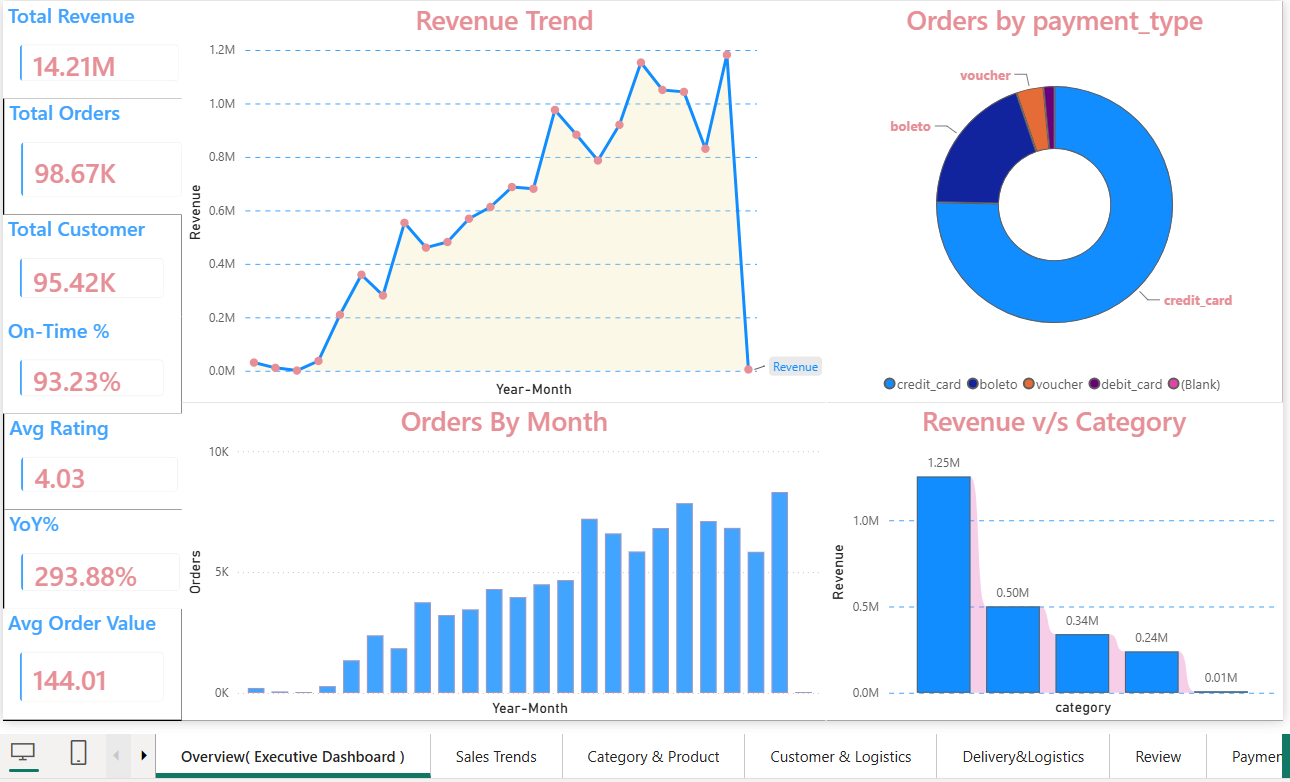

The dashboard page shown, as its layout file describes it:
{"tool":"powerbi","page":{"name":"Overview( Executive Dashboard ) ","canvas":[1280,720],"ordinal":0},"visuals":[{"type":"cardVisual","title":"Total Revenue","fields":{"Data":["public bi_fact_sales.Revenue"]},"box":[0,0,193.8,97.5],"z":0},{"type":"cardVisual","title":"Total Orders","fields":{"Data":["public bi_fact_sales.Orders"]},"box":[1.2,97.7,195.4,115.8],"z":1000},{"type":"cardVisual","title":"Total Customer","fields":{"Data":["public bi_fact_sales.Customers"]},"box":[0,213.8,178.8,101.2],"z":2000},{"type":"cardVisual","title":"Avg Order Value","fields":{"Data":["public bi_fact_sales.AOV"]},"box":[0,608,178.6,111],"z":3000},{"type":"cardVisual","title":"On-Time %","fields":{"Data":["public bi_fact_sales.On-time %"]},"box":[0,314.9,178.6,97.7],"z":4000},{"type":"cardVisual","title":"Avg Rating","fields":{"Data":["public bi_fact_sales.Avg Rating"]},"box":[1.2,412.5,191.2,96.2],"z":5000},{"type":"cardVisual","title":"YoY%","fields":{"Data":["public bi_fact_sales.YoY %"]},"box":[1.2,509.1,193,98.9],"z":6000},{"type":"lineChart","title":"Revenue Trend","fields":{"Y":["public bi_fact_sales.Revenue"],"Category":["DimDate.Year-Month"]},"box":[178.6,0,645.4,401.7],"z":7000},{"type":"clusteredColumnChart","title":"Orders By Month","fields":{"Y":["public bi_fact_sales.Orders"],"Category":["DimDate.Year-Month"]},"box":[178.8,401.2,645,318.8],"z":8000},{"type":"columnChart","title":"Revenue v/s Category","fields":{"Category":["public bi_fact_sales.category"],"Y":["public bi_fact_sales.Revenue"]},"box":[822.8,401.7,457.2,318.5],"z":9000},{"type":"donutChart","fields":{"Y":["public bi_fact_sales.Orders"],"Category":["public bi_fact_sales.payment_type"]},"box":[824,0,456,401.7],"z":10000}]}

Visuals, with their boxes on the page's 1280x720 design canvas (x1, y1, x2, y2). These are canvas units, not pixel positions in the 1290x782 screenshot, which may show the page scaled, cropped or inside an application window:
"Total Revenue" cardVisual: (left=0, top=0, right=194, bottom=98)
"Total Orders" cardVisual: (left=1, top=98, right=197, bottom=214)
"Total Customer" cardVisual: (left=0, top=214, right=179, bottom=315)
"Avg Order Value" cardVisual: (left=0, top=608, right=179, bottom=719)
"On-Time %" cardVisual: (left=0, top=315, right=179, bottom=413)
"Avg Rating" cardVisual: (left=1, top=412, right=192, bottom=509)
"YoY%" cardVisual: (left=1, top=509, right=194, bottom=608)
"Revenue Trend" lineChart: (left=179, top=0, right=824, bottom=402)
"Orders By Month" clusteredColumnChart: (left=179, top=401, right=824, bottom=720)
"Revenue v/s Category" columnChart: (left=823, top=402, right=1280, bottom=720)
donutChart - public bi_fact_sales.Orders x public bi_fact_sales.payment_type: (left=824, top=0, right=1280, bottom=402)
